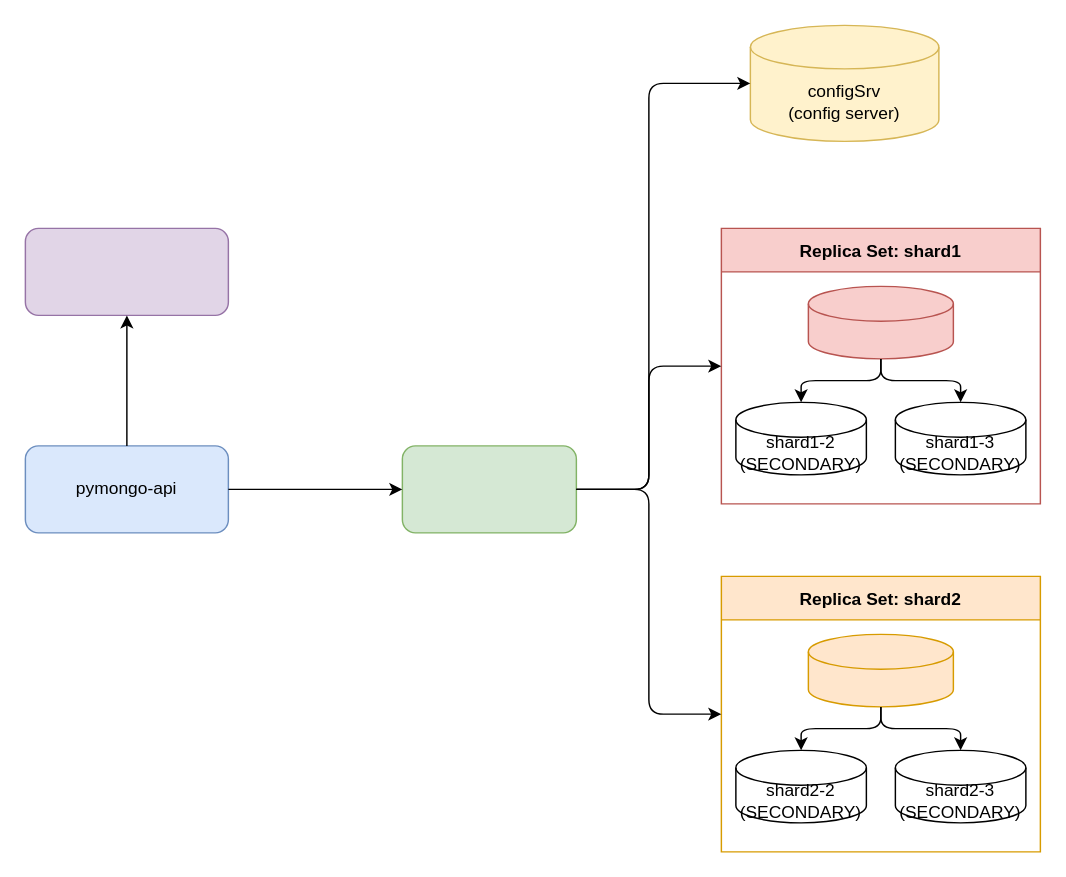
This 1066x877 diagram has some shape labels left out. The centre of each missing label's shape, as x and y in pixels:
"mongos (router)" goes at pixel 488 488.
"redis (cache)" goes at pixel 126 271.
"shard1-1 (PRIMARY)" goes at pixel 880 322.
"shard2-1 (PRIMARY)" goes at pixel 880 670.
